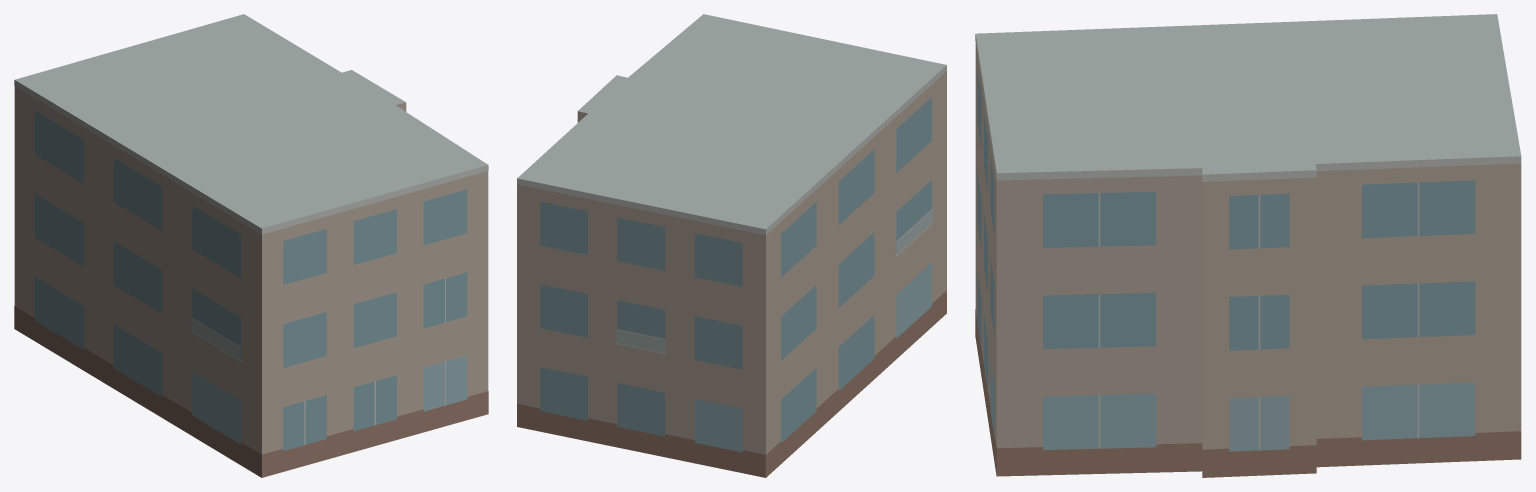
Rendered from survey-upis-32950979.glb.
The picture shows the model from 3 angles, left to right: view 1: azimuth 30°, elevation 25°; view 2: azimuth 150°, elevation 25°; view 3: azimuth 270°, elevation 25°; orthographic projection. The views are drawn at different scales.
Parts seen in each view (by area): view 1: survey-upis-32950979.tmp; view 2: survey-upis-32950979.tmp; view 3: survey-upis-32950979.tmp.
Boxes of the visible parts, x1,y1,x2,y2 form: survey-upis-32950979.tmp: (14, 14, 488, 477); survey-upis-32950979.tmp: (517, 14, 946, 477); survey-upis-32950979.tmp: (975, 14, 1521, 477).
Size of the model in its own units: 11.55 by 10.15 by 16.57.
